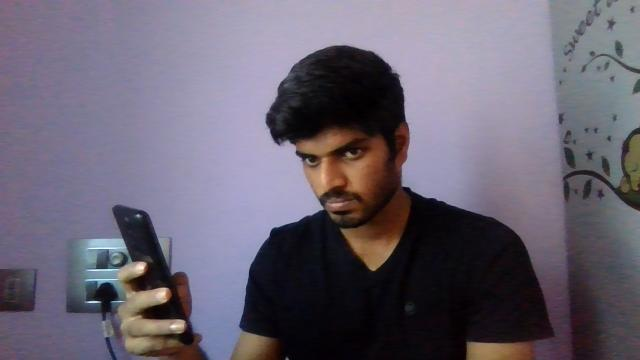PhoneUse: (118, 202, 198, 344)
SafeDriving: (332, 131, 371, 167), (290, 139, 326, 171)
